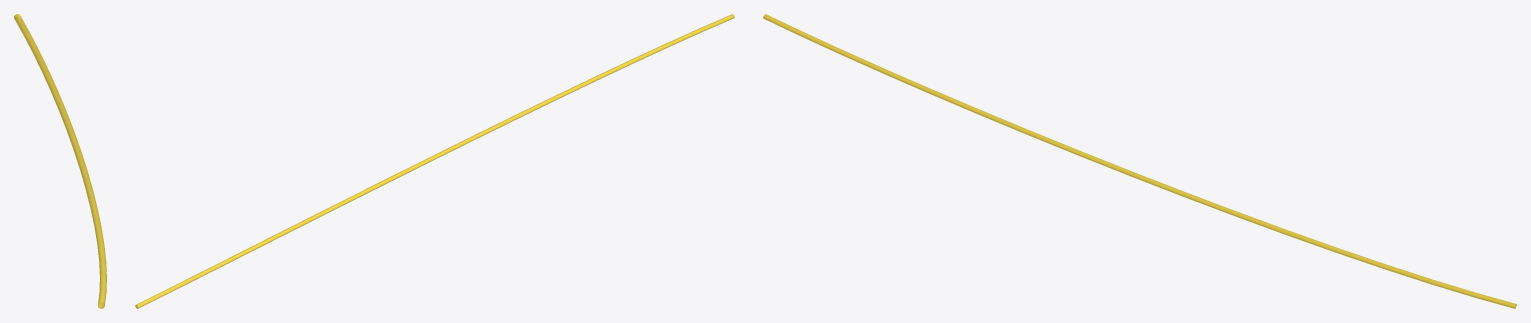
Rendered from Event_84804159_track_56.fbx.
3 renders of one model, left to right at view 1: azimuth 90°, elevation 25°; view 2: azimuth 210°, elevation 25°; view 3: azimuth 330°, elevation 25°, orthographic. The views are drawn at different scales.
Parts seen in each view (by area): view 1: Model; view 2: Model; view 3: Model.
Part boxes in pixels (box(x1,y1,x2,y2)): Model: box(14, 14, 106, 308); Model: box(135, 14, 734, 308); Model: box(763, 14, 1516, 308).
Size of the model in its own units: 6.38 by 1.2 by 0.5294.
